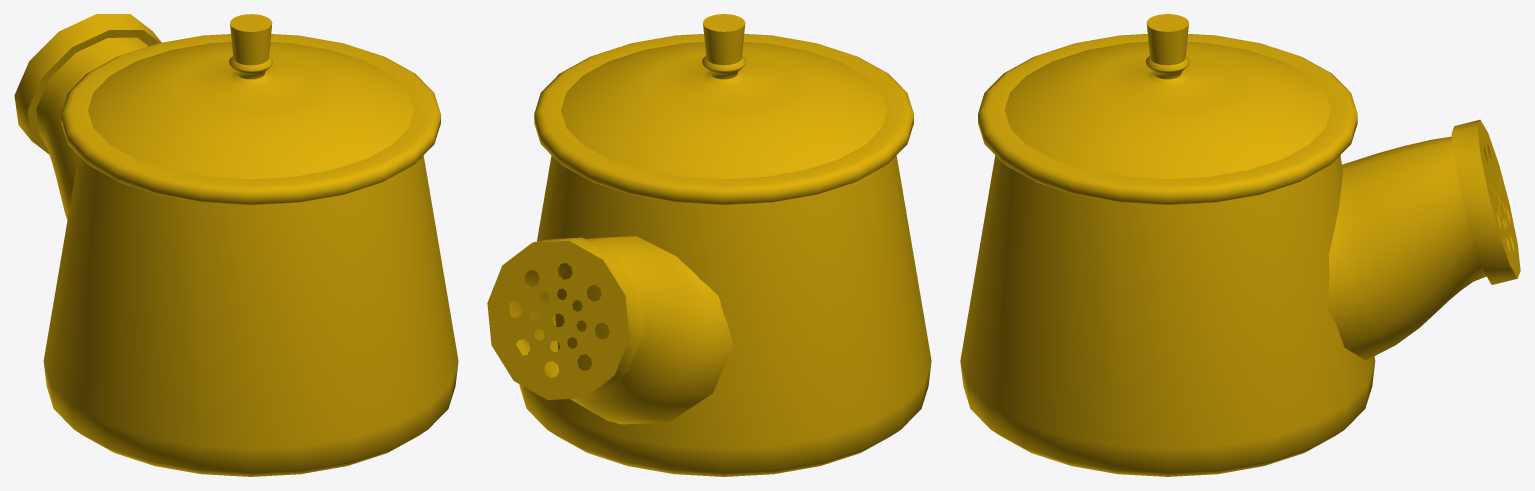
Rendered from Watering_01.fbx.
3 renders of one model, left to right at view 1: azimuth 30°, elevation 25°; view 2: azimuth 150°, elevation 25°; view 3: azimuth 270°, elevation 25°, orthographic.
Visible parts, largest first — view 1: Watering_01; view 2: Watering_01; view 3: Watering_01.
Boxes of the visible parts, bbox=[...] form: Watering_01: bbox=[14, 14, 458, 476]; Watering_01: bbox=[487, 14, 931, 476]; Watering_01: bbox=[960, 14, 1520, 476].
Size of the model in its own units: 154 by 160 by 208.
